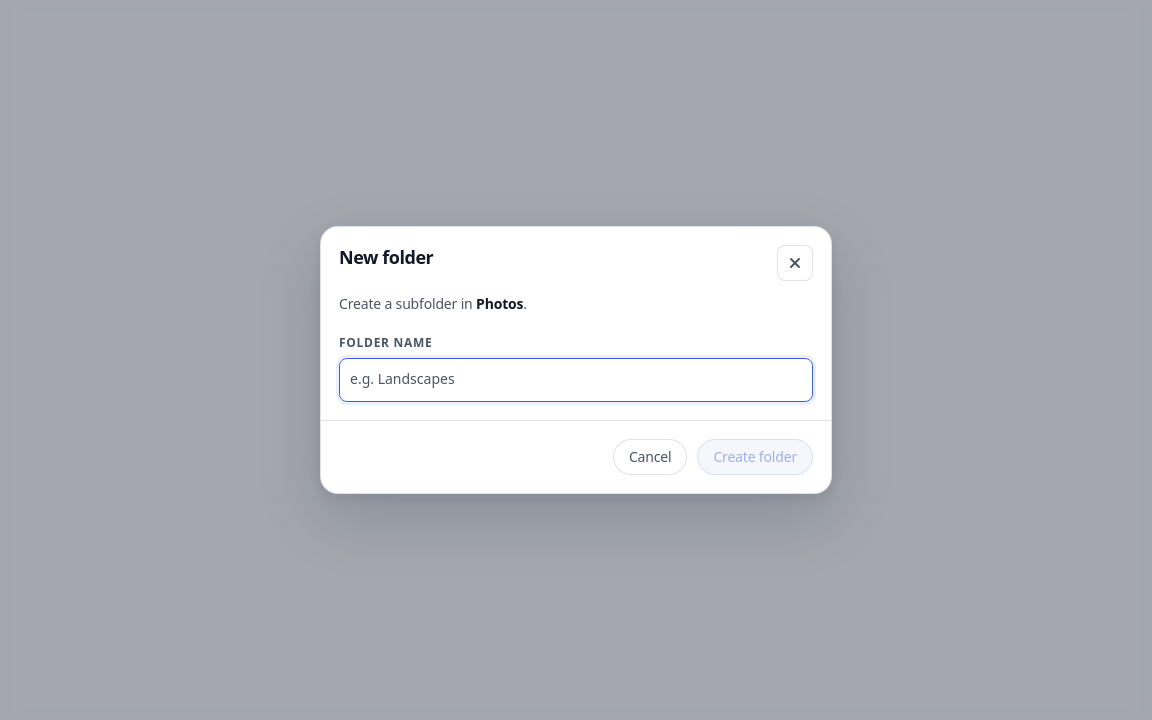
Test: CreateFolderDialog › disables submit until a name is entered
Expected: the button "Create folder" is disabled, [697,439,813,475]
Type "Landscapes" into the field labelled "Folder name".
click(576, 380); type("Landscapes")  # box [339,358,813,402]
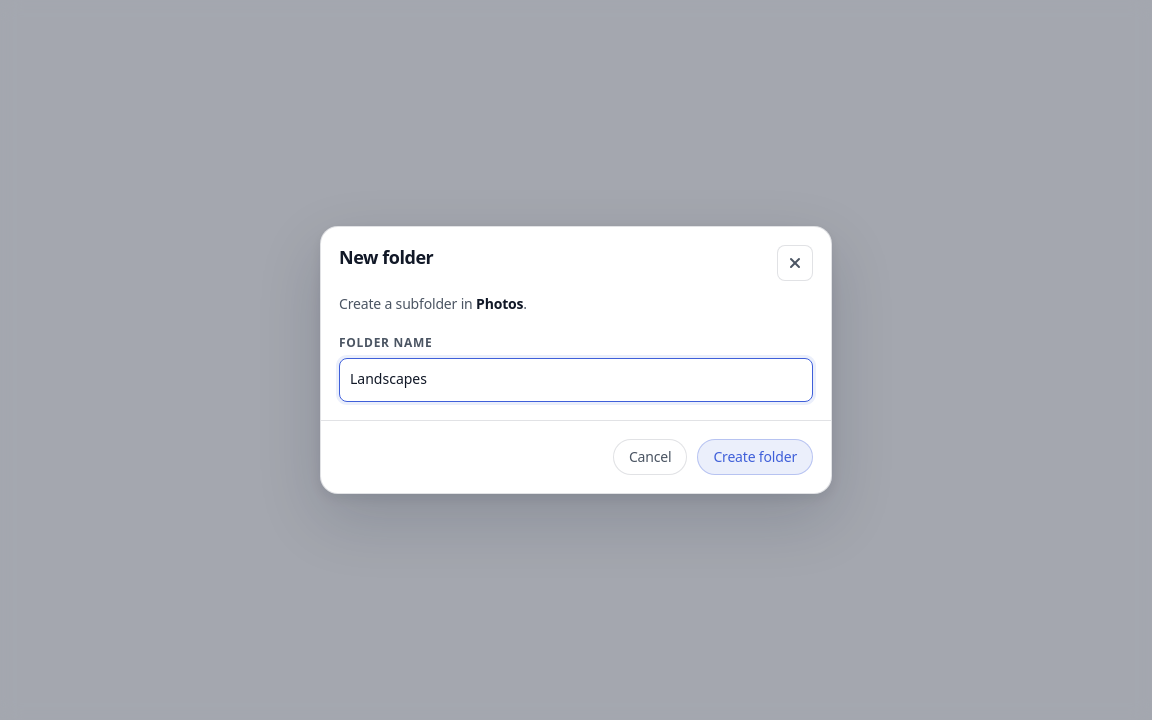
Expected: the button "Create folder" is enabled, [697,439,813,475]
